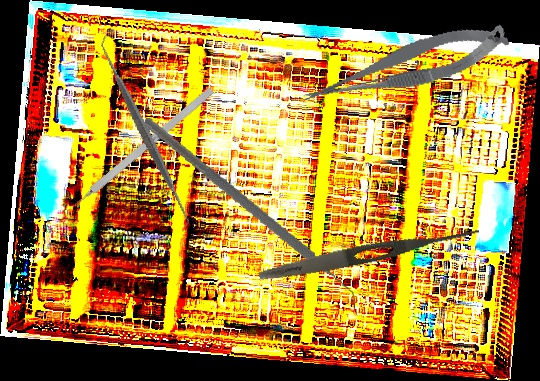Chopper: (122, 117, 377, 318)
Dressing Forceps: (257, 219, 481, 287)
Hook Surgical: (62, 86, 215, 217)
Micro Scissor: (295, 18, 515, 111)
Spatula Surgical: (44, 33, 246, 231)
